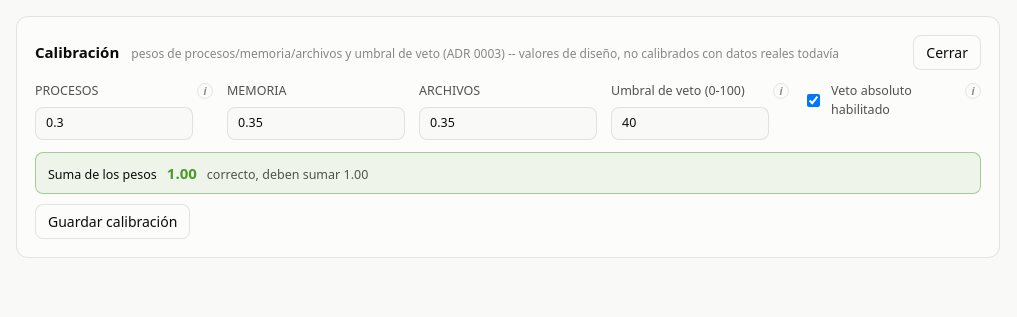
Test case: CalibracionPanel › guarda la calibración editada cuando los pesos suman 1
Replace the text in the number field labelled "PROCESOS" with "0.4" at (114, 123), box [35,107,193,140]
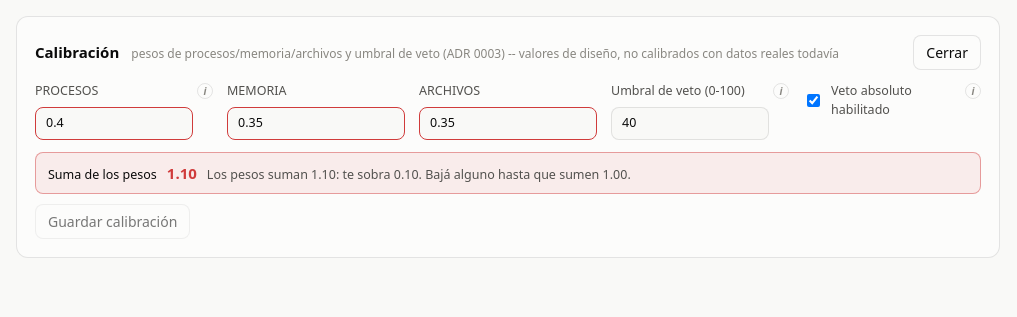
Replace the text in the number field labelled "MEMORIA" with "0.3" at (316, 123), box [227,107,405,140]
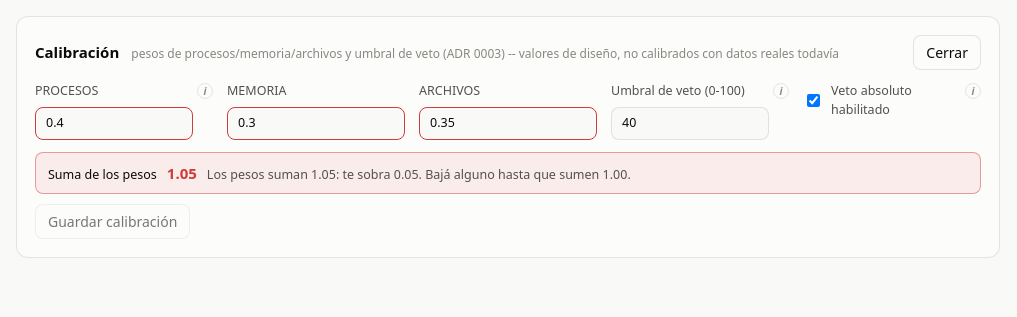
Replace the text in the number field labelled "ARCHIVOS" with "0.3" at (508, 123), box [419,107,597,140]
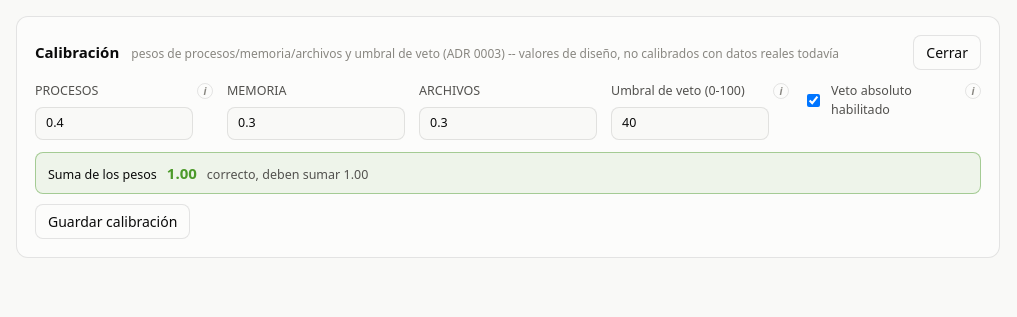
Click the button "Guardar calibración" at (113, 222), box [35,204,190,239]
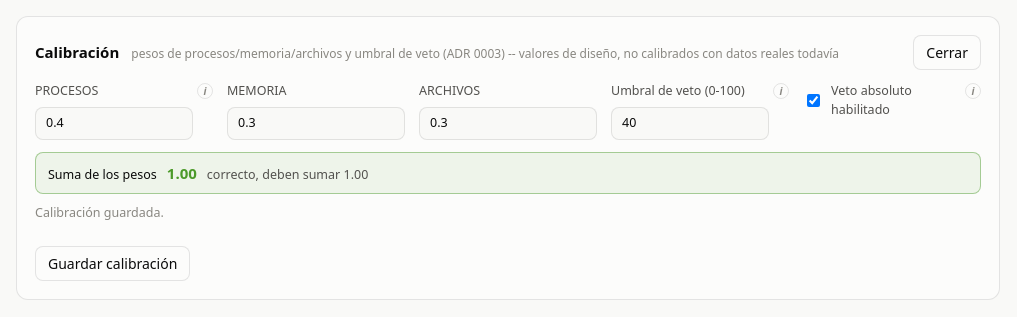
Now the text "Calibración guardada." is shown, box [35,204,164,221]
